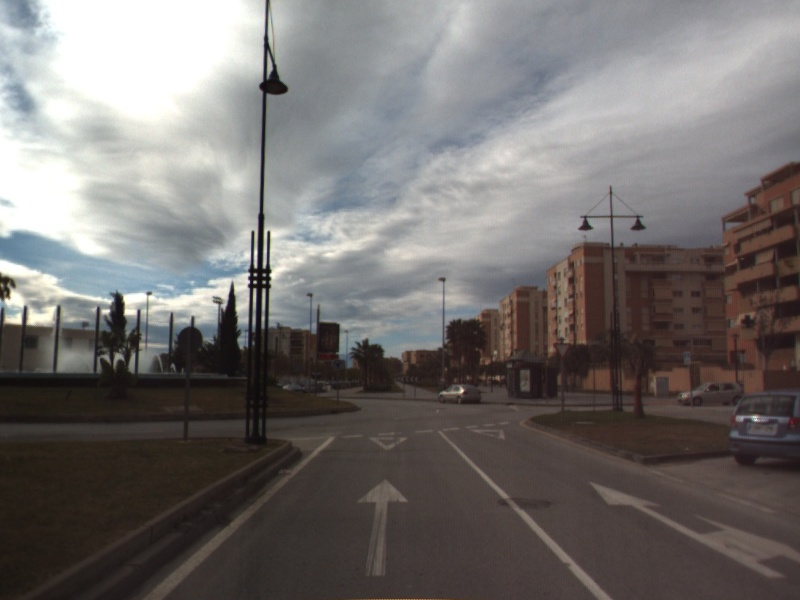STRAIGHT: (355, 476, 411, 578)
STRAIGHT_RIGHT: (587, 480, 800, 580)
